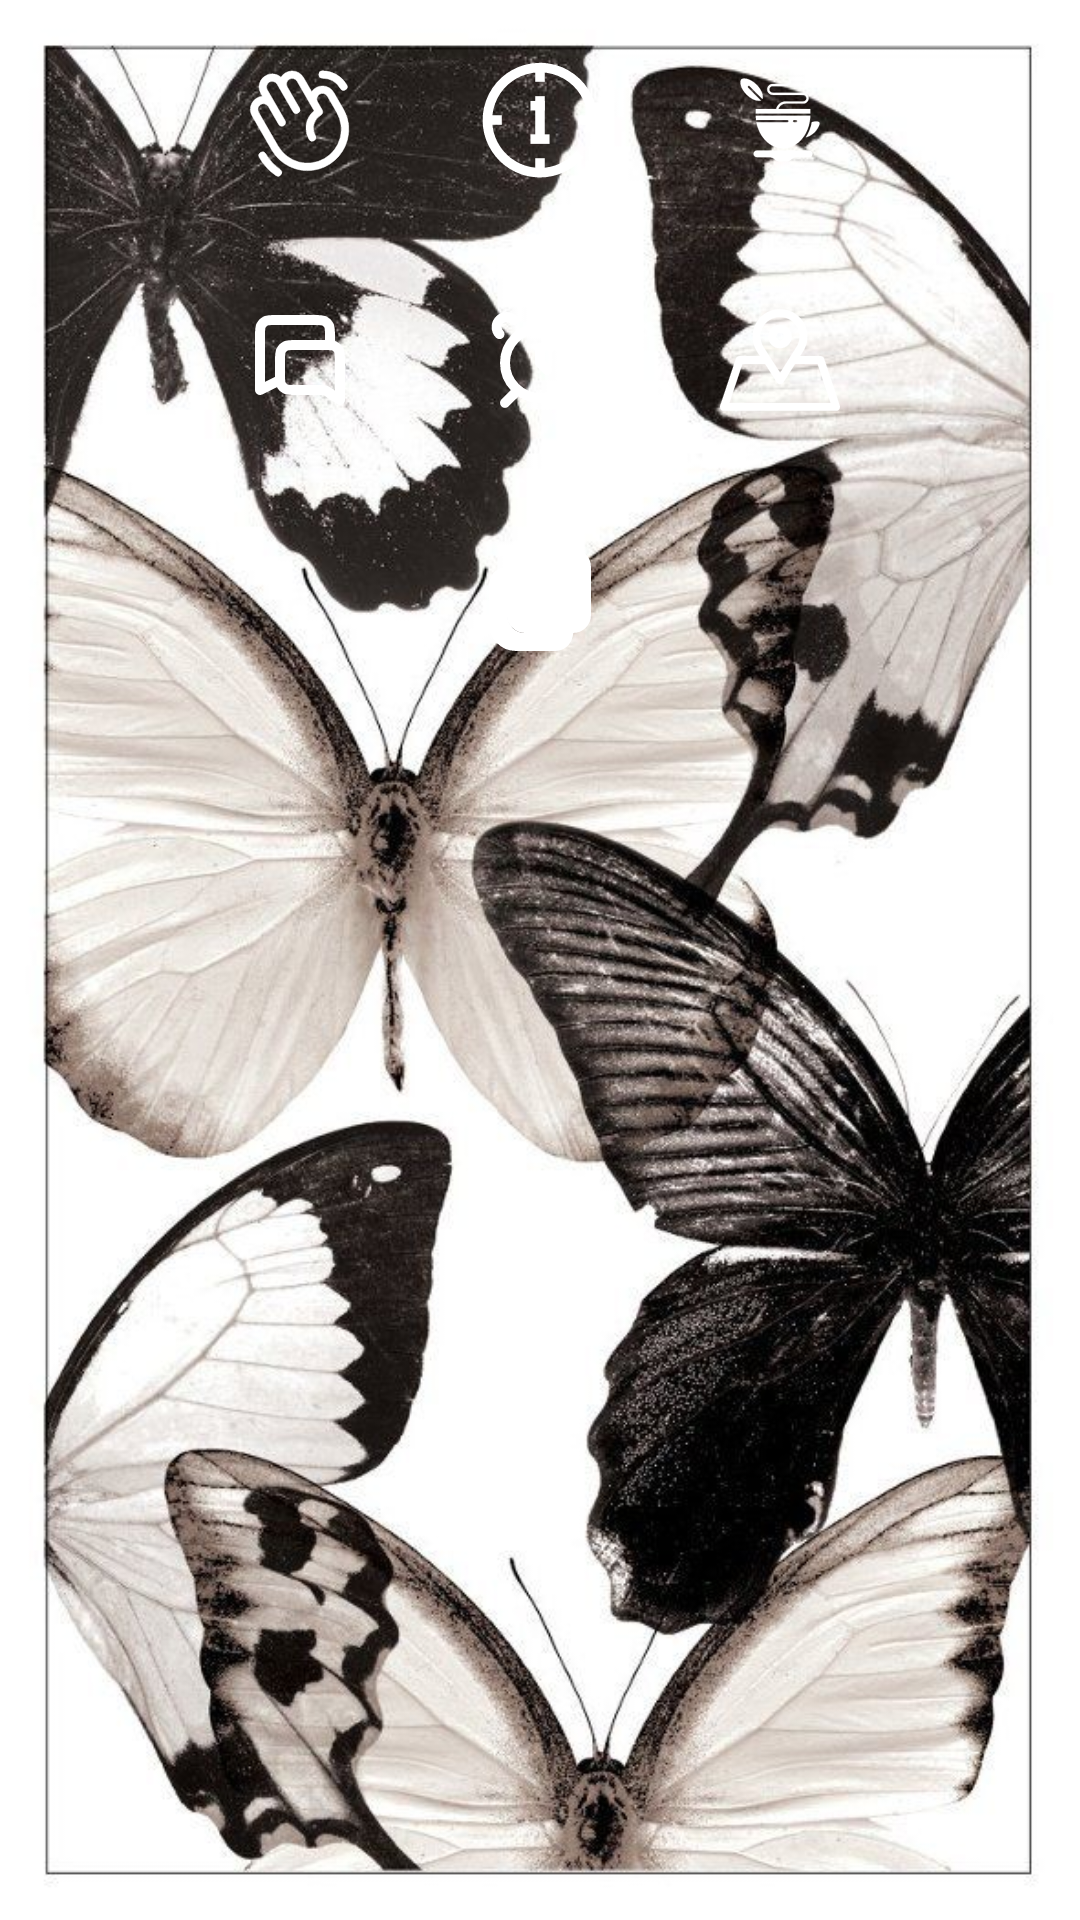

Point at icon controls on the screen. Image size 1080px x 1920px, points as point (x, y).
count: point (540, 120)
hello: point (299, 120)
maps: point (780, 360)
